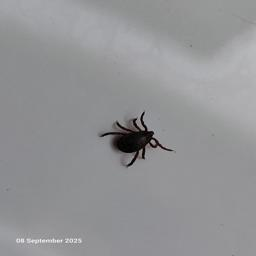Rhipicephalus sanguineus: (98, 110, 176, 167)
